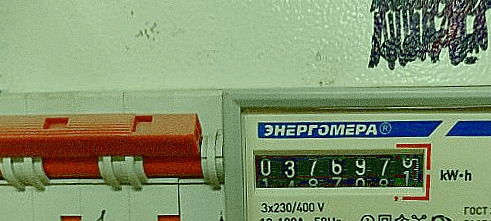0: (259, 156, 272, 176)
1: (401, 168, 412, 186)
3: (283, 158, 296, 178)
6: (330, 154, 343, 175)
7: (306, 155, 319, 176), (378, 155, 390, 177)
9: (354, 155, 366, 176)
screen: (245, 138, 437, 205)
